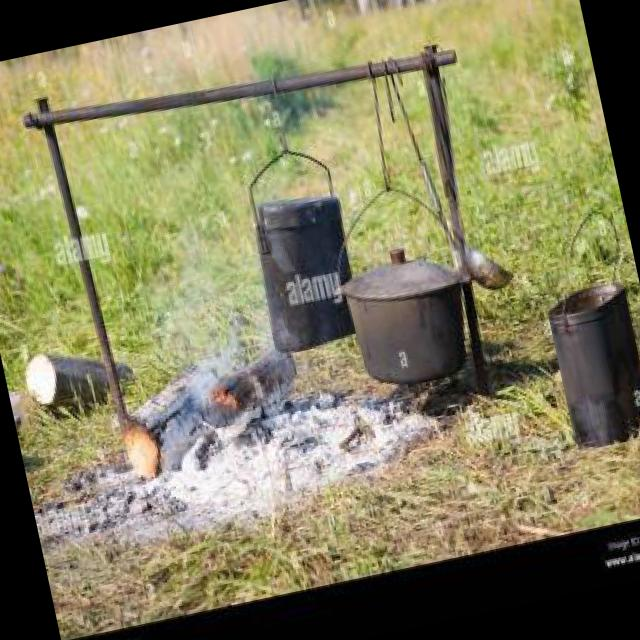Fire: (209, 379, 252, 422)
